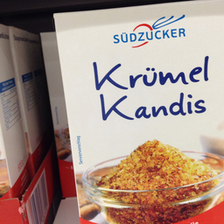tomato_sauce: (50, 2, 224, 223)
